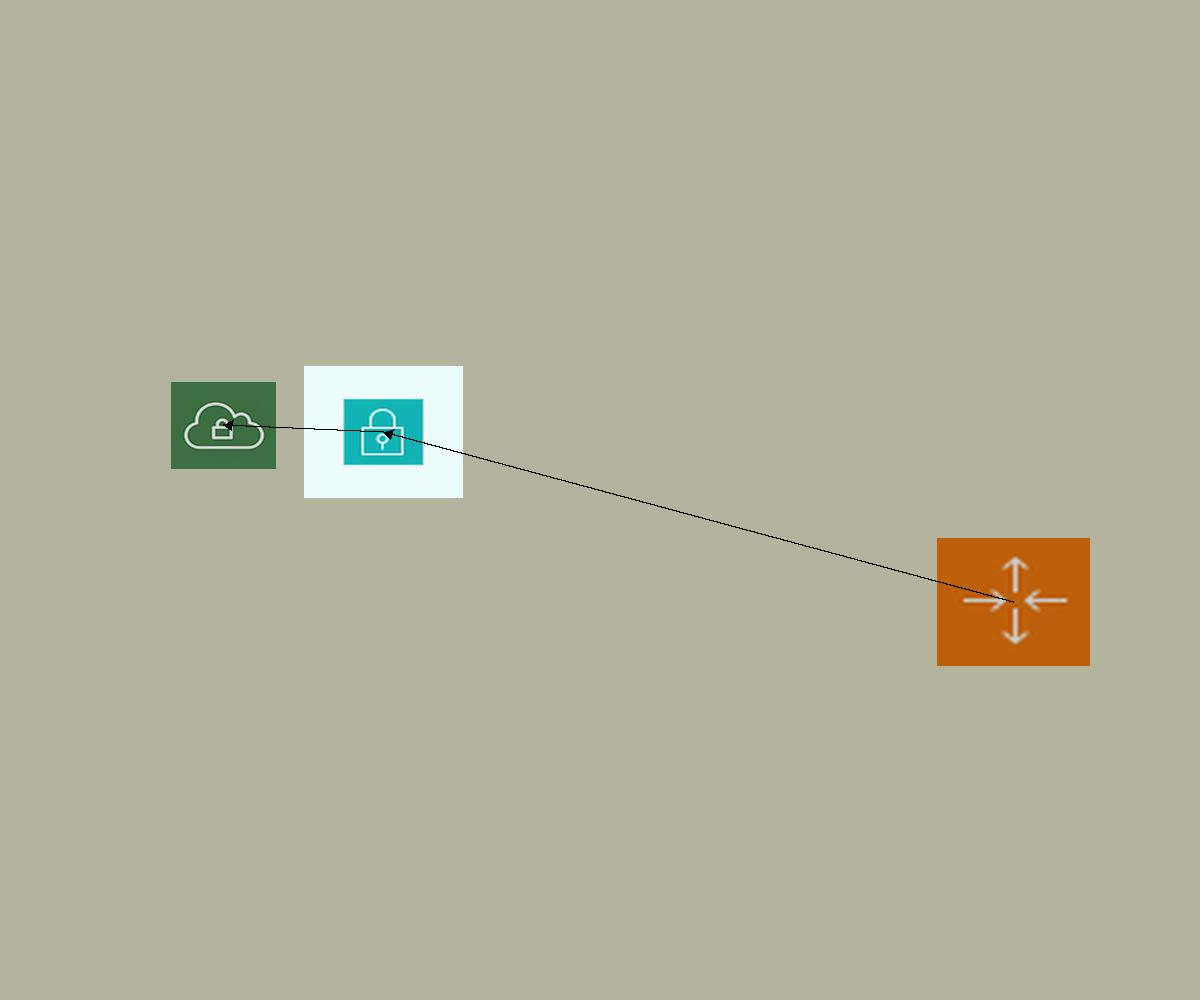AWS-Private-subnet: (304, 366, 463, 498)
AWS-Private_vpc: (171, 382, 276, 469)
AWS-Scaling-group: (937, 538, 1090, 666)
